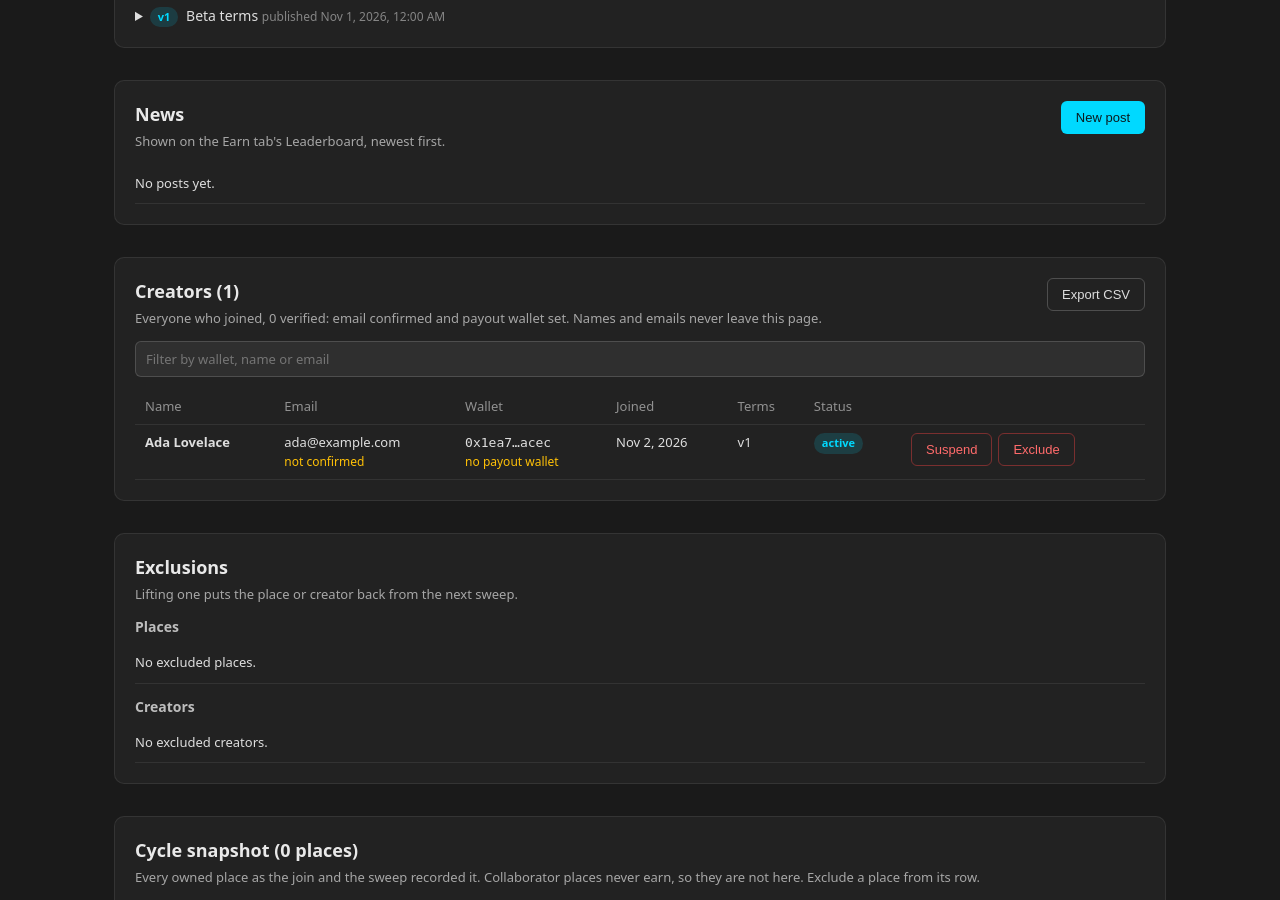
Test case: CreatorFundPage › suspends a creator only after the confirm dialog, then reloads
(page scrolled)
What coordinates should you click on to do the following:
click the button "Suspend"
I would click on:
 (952, 450)
Its box is top-left (911, 433), bottom-right (992, 466).
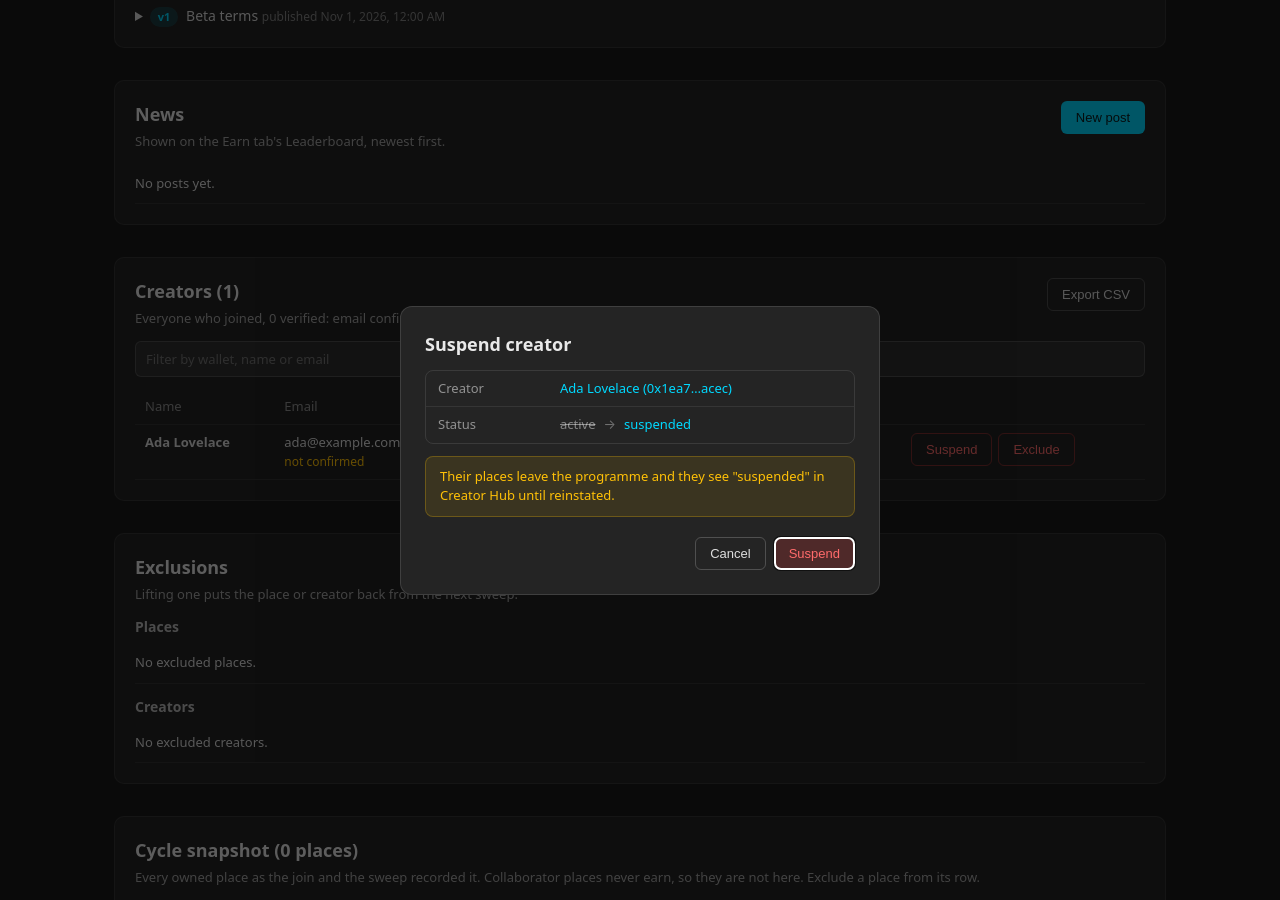
Now the text "suspended" is shown, box top-left (624, 415), bottom-right (691, 433)
What coordinates should you click on to do the following:
click the button "Suspend"
I would click on:
 (814, 553)
Its box is top-left (774, 536), bottom-right (855, 570).
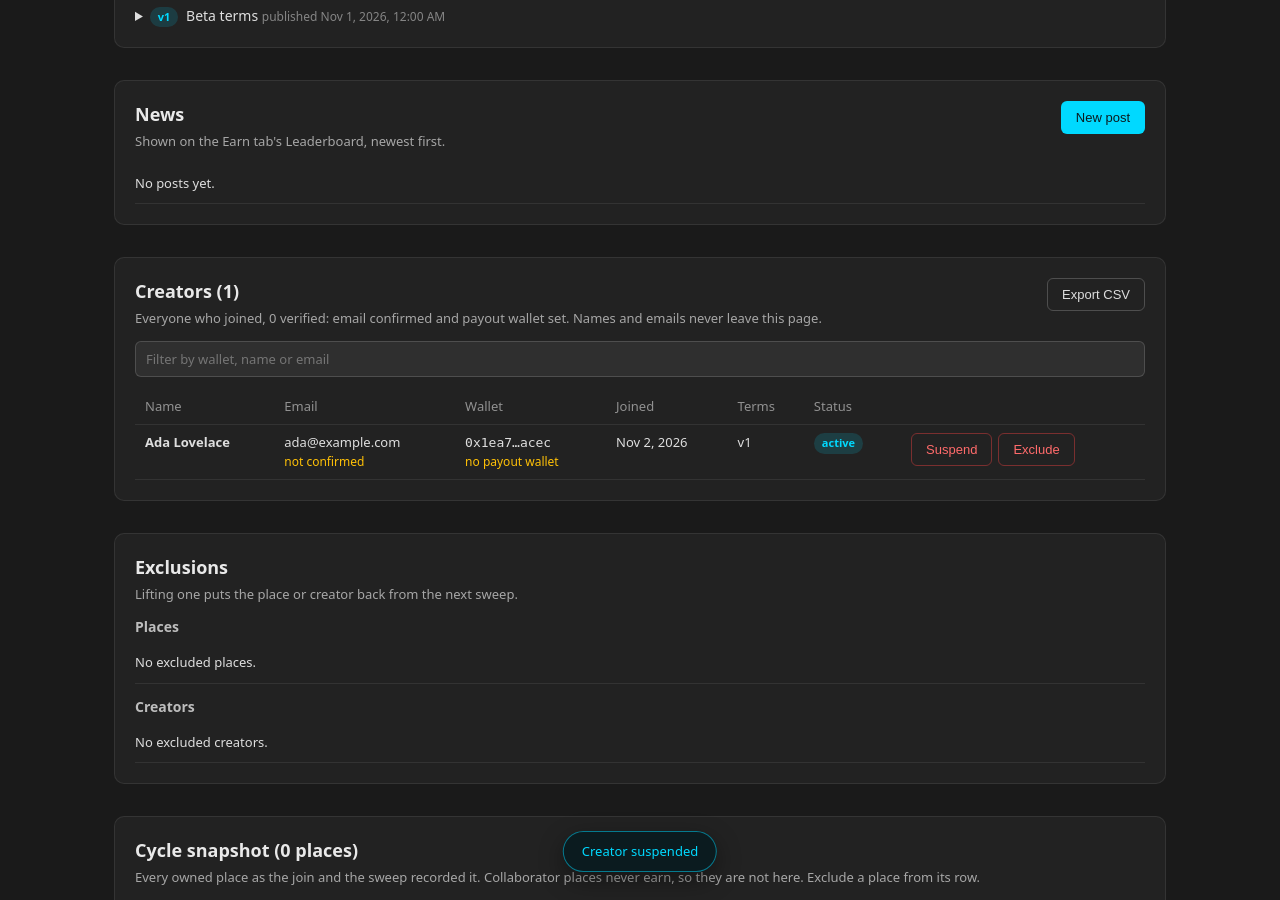
Now the dialog is gone
Now the message reads "Creator suspended", box top-left (582, 842), bottom-right (698, 860)
